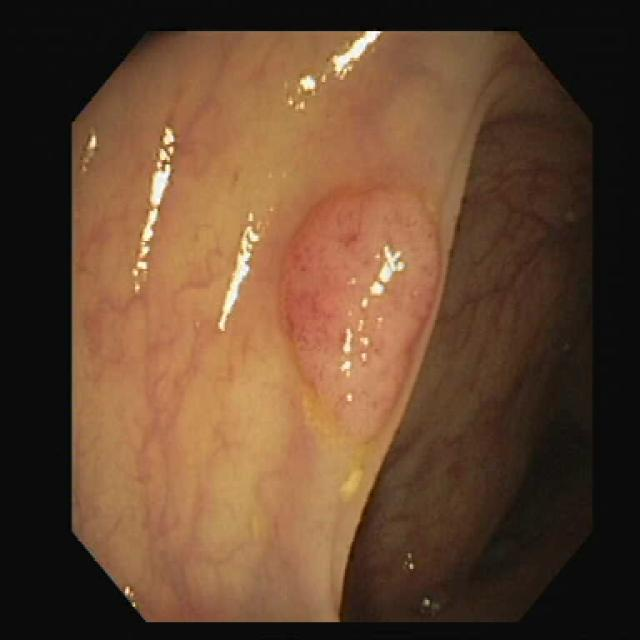tumor: (282, 189, 440, 418)
